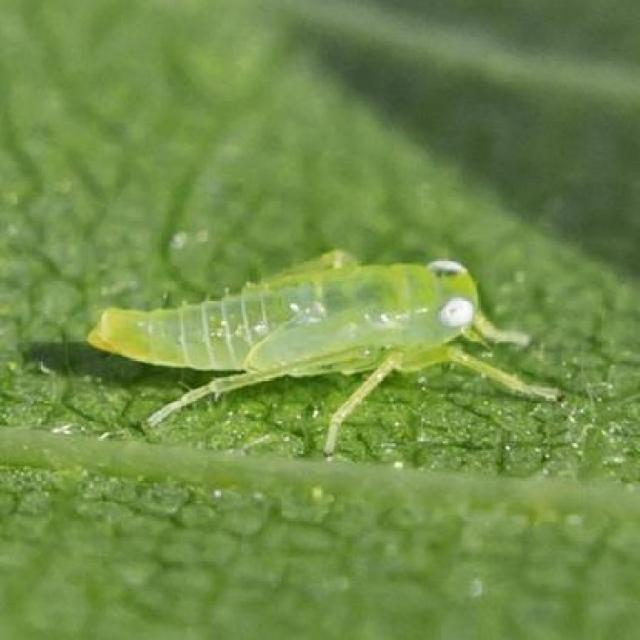green-leafhopper: (103, 258, 491, 378)
